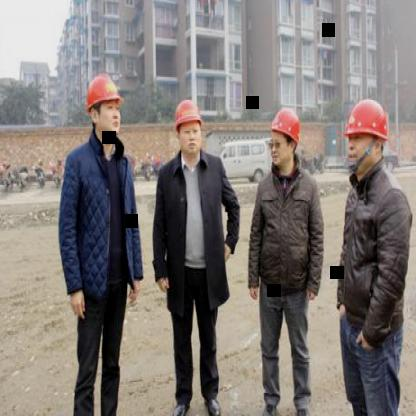helmet: (342, 98, 396, 183), (82, 67, 124, 144), (264, 102, 304, 176), (171, 96, 205, 161)
